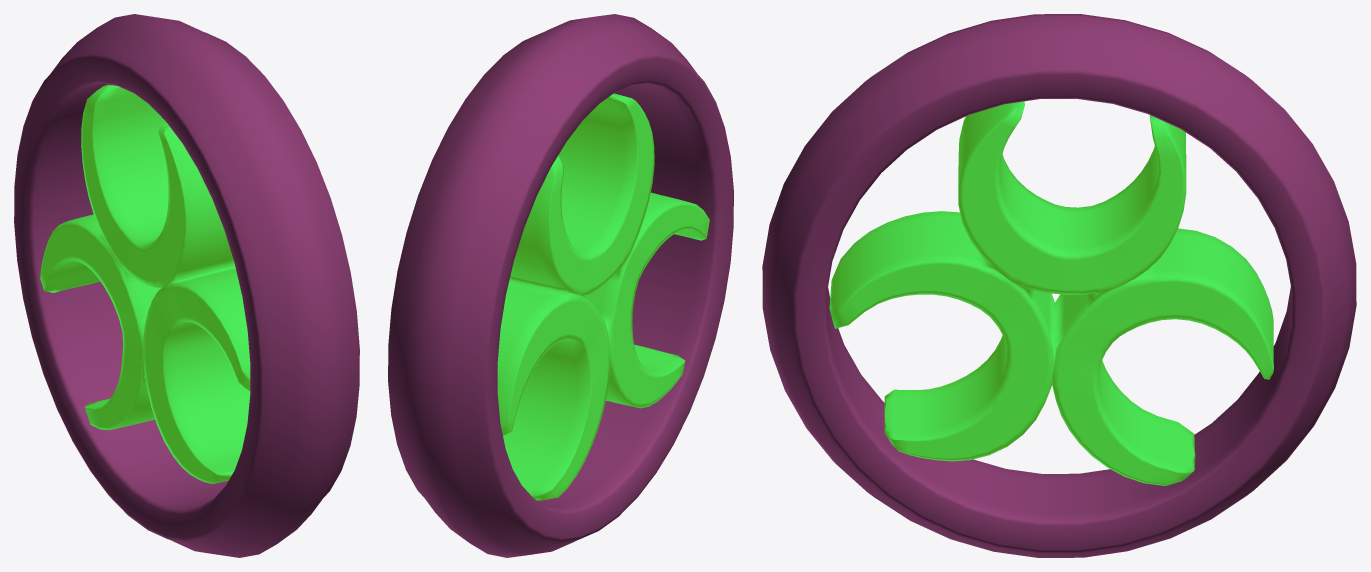
The model's file is AlienBackWheelSingle.fbx.
3 renders of one model, left to right at view 1: azimuth 30°, elevation 25°; view 2: azimuth 150°, elevation 25°; view 3: azimuth 270°, elevation 25°, orthographic. The views are drawn at different scales.
Visible parts, largest first — view 1: polySurface20; view 2: polySurface20; view 3: polySurface20.
Boxes of the visible parts, box(x1,y1,x2,y2) form: polySurface20: box(14, 14, 359, 557); polySurface20: box(388, 14, 733, 557); polySurface20: box(762, 14, 1356, 557).
Bounding box in the file's own units: 0.4176 × 2.02 × 2.02.
